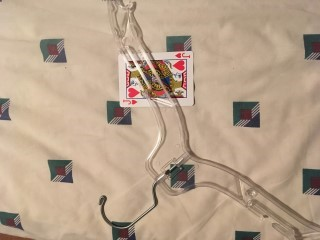JackOfHearts: (118, 51, 194, 106)
